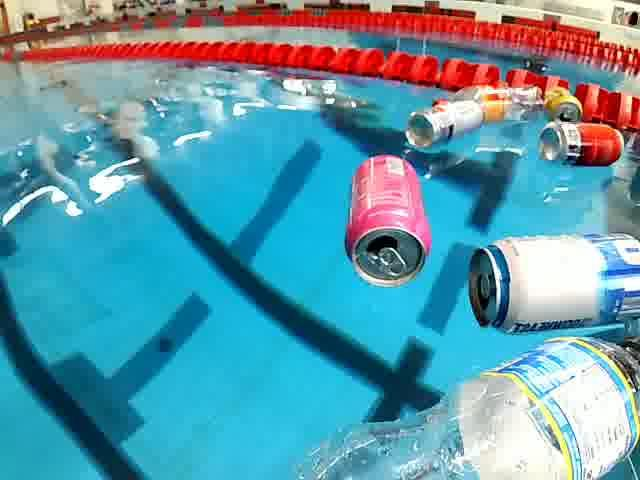Bottle: (282, 325, 638, 480)
Can: (459, 229, 640, 334), (343, 150, 440, 294), (406, 97, 492, 151), (535, 123, 632, 165)
